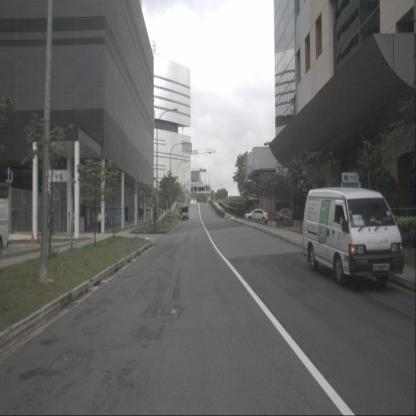cone: (30, 230, 35, 244), (36, 229, 40, 244)
